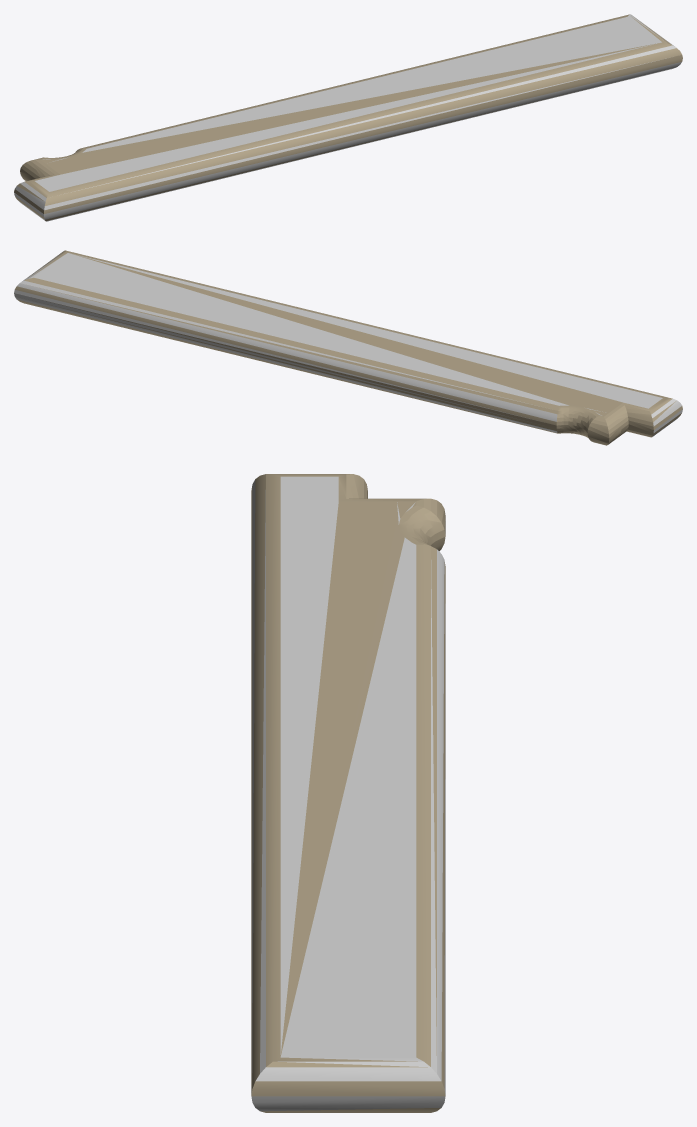
Rendered from left_arm.obj.
3 views of the same model, one above another, from view 1: azimuth 30°, elevation 25°; view 2: azimuth 150°, elevation 25°; view 3: azimuth 270°, elevation 25° (orthographic). The views are drawn at different scales.
Parts seen in each view (by area): view 1: left_arm_mesh1_mesh1-geometry.003; view 2: left_arm_mesh1_mesh1-geometry.003; view 3: left_arm_mesh1_mesh1-geometry.003.
Part boxes in pixels (bbox=[...]): left_arm_mesh1_mesh1-geometry.003: bbox=[14, 14, 682, 221]; left_arm_mesh1_mesh1-geometry.003: bbox=[14, 250, 682, 445]; left_arm_mesh1_mesh1-geometry.003: bbox=[251, 474, 445, 1112].
Bounding box in the file's own units: 0.3719 × 0.0151 × 0.0504.
